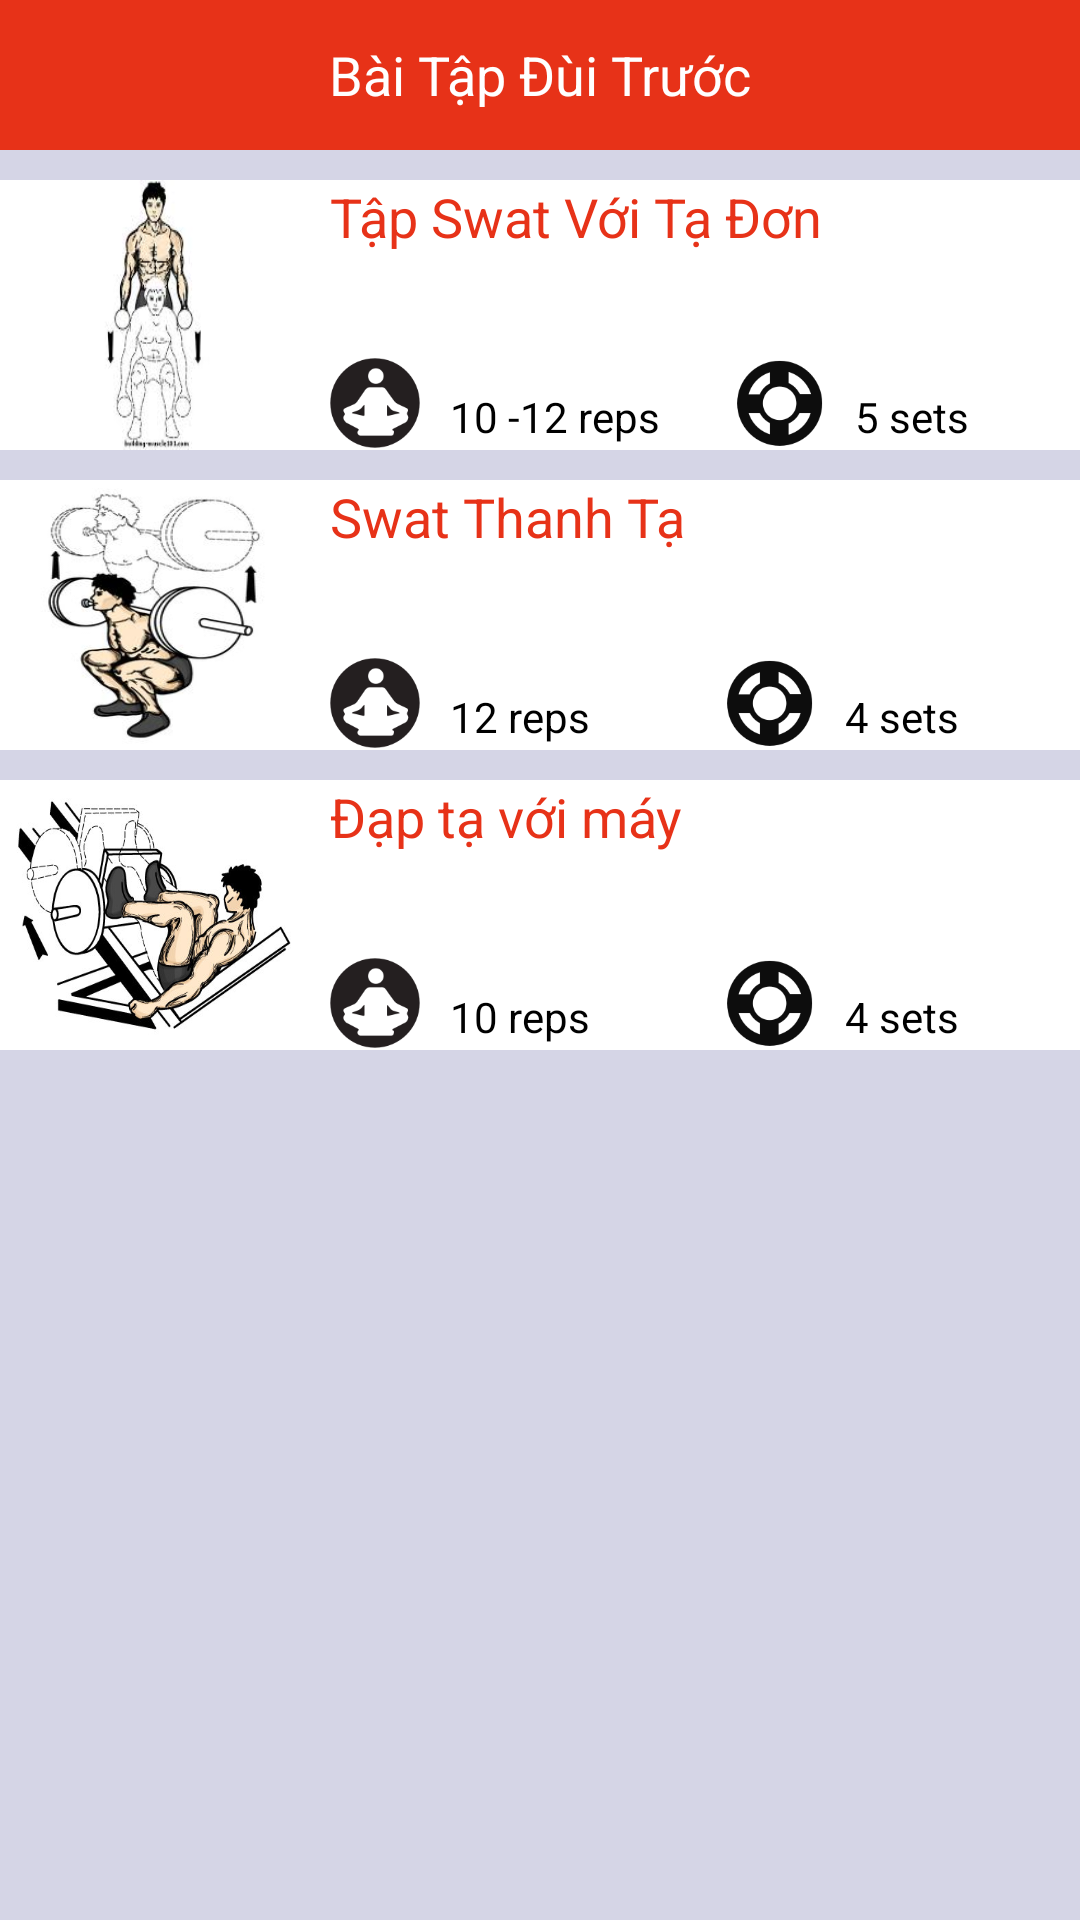

Where icons sit on this 1080x1920 app screen, as box=[x1, y1, x2, y2]:
duitruoc: box=[107, 181, 201, 449], box=[48, 494, 260, 738], box=[18, 801, 290, 1030]
